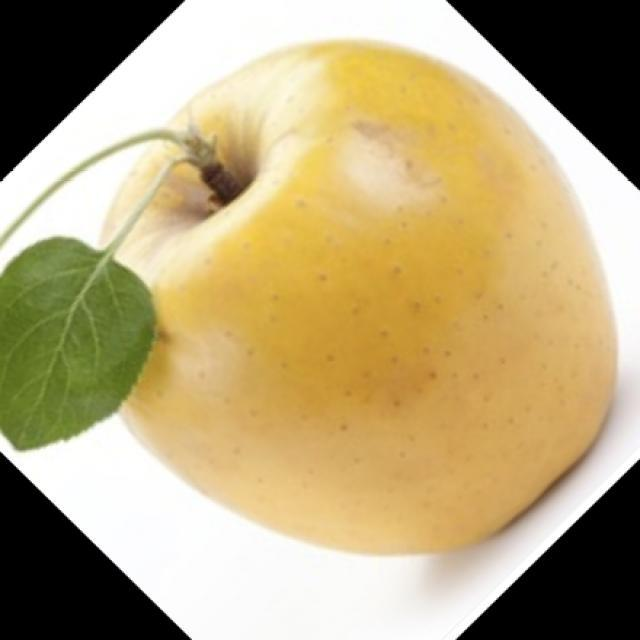Fresh Apple: (133, 42, 630, 568)
